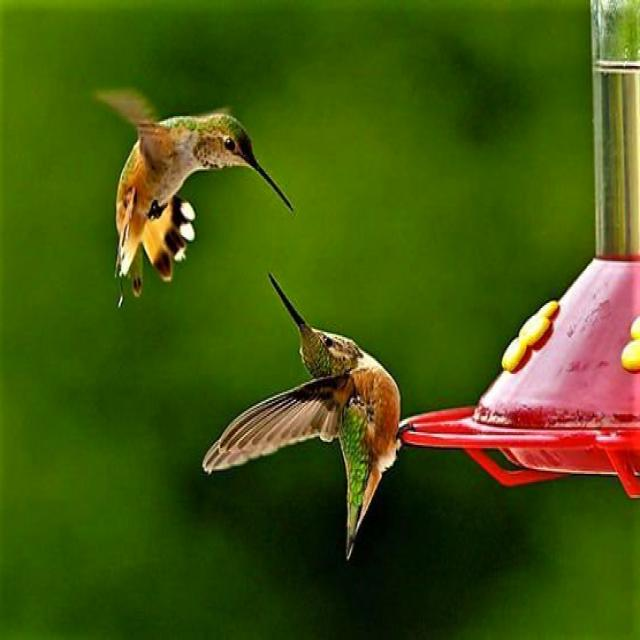hummingbird: (204, 274, 413, 558), (99, 92, 292, 295)
